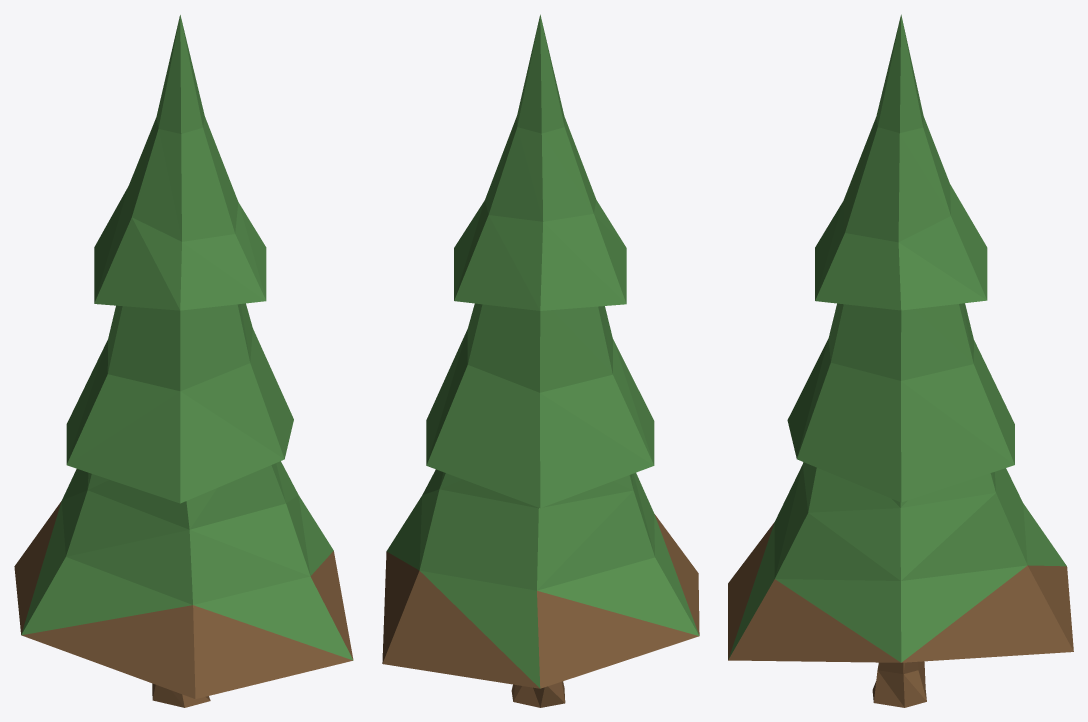
Rendered from tree3d-031.glb.
3 views of the same model, side by side, from view 1: azimuth 30°, elevation 25°; view 2: azimuth 150°, elevation 25°; view 3: azimuth 270°, elevation 25° (orthographic).
Visible parts, largest first — view 1: tree3d-031; view 2: tree3d-031; view 3: tree3d-031.
Boxes of the visible parts, x1,y1,x2,y2 form: tree3d-031: (14, 15, 353, 707); tree3d-031: (382, 14, 699, 707); tree3d-031: (728, 14, 1073, 707).
Size of the model in its own units: 0.4804 by 1 by 0.4603.
